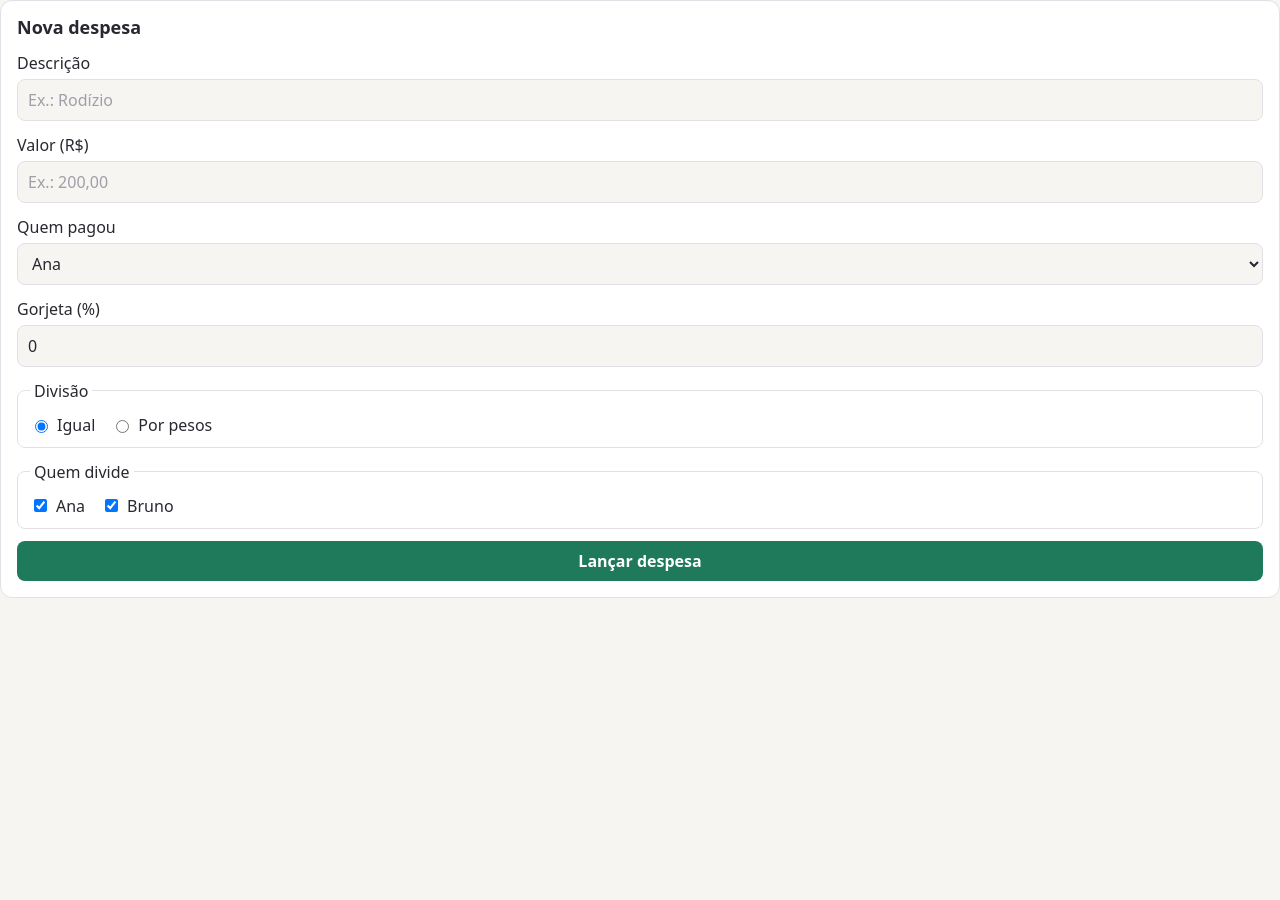
Test: DespesaForm › deve recusar com mensagem quando um peso não é positivo
The image size is (1280, 900).
Type "90,00" into the field labelled "Valor (R$)". click: point(640, 182)
box: x1=17 y1=161 x2=1263 y2=203
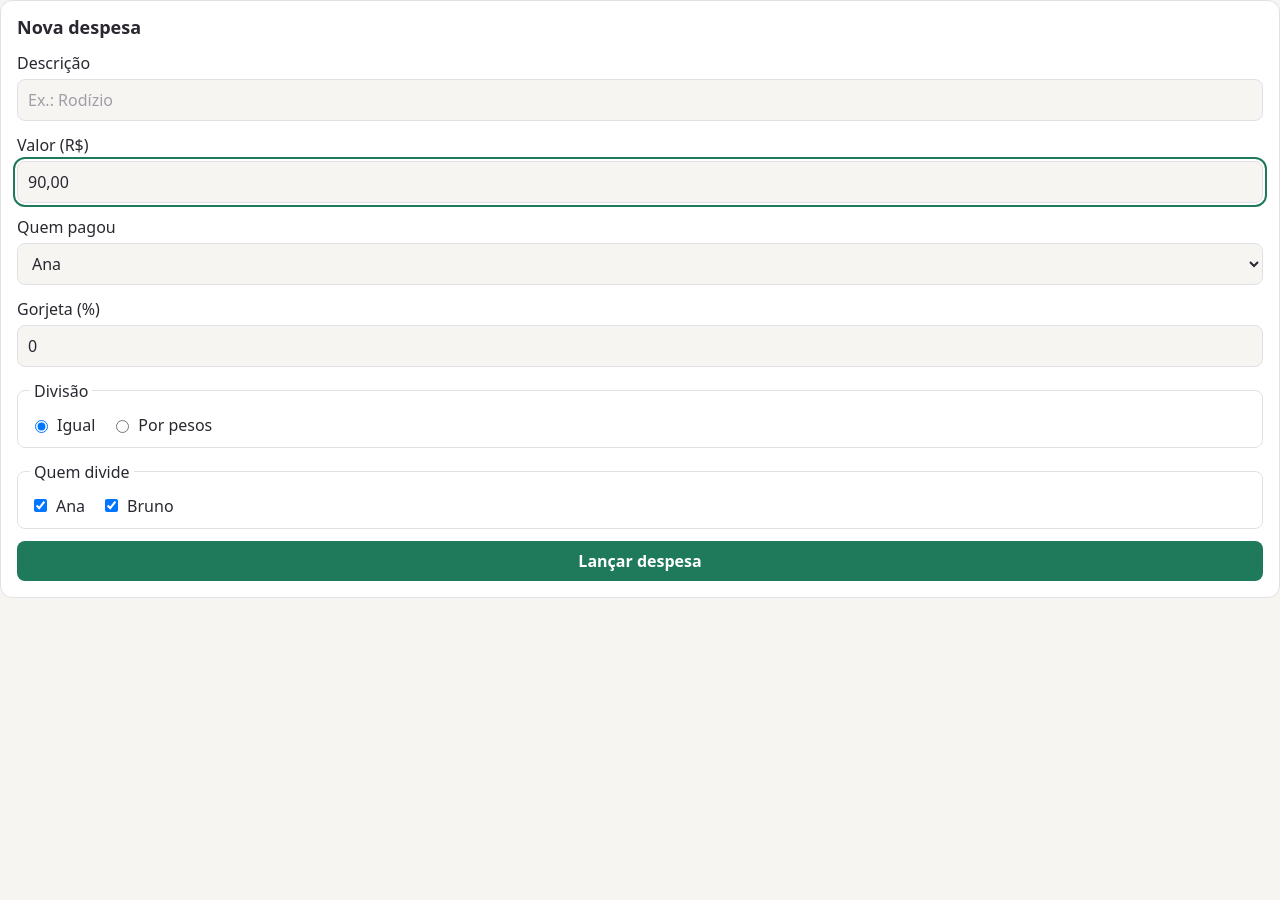
Click the radio button labelled "Por pesos". click: point(123, 426)
box: x1=116 y1=420 x2=129 y2=433
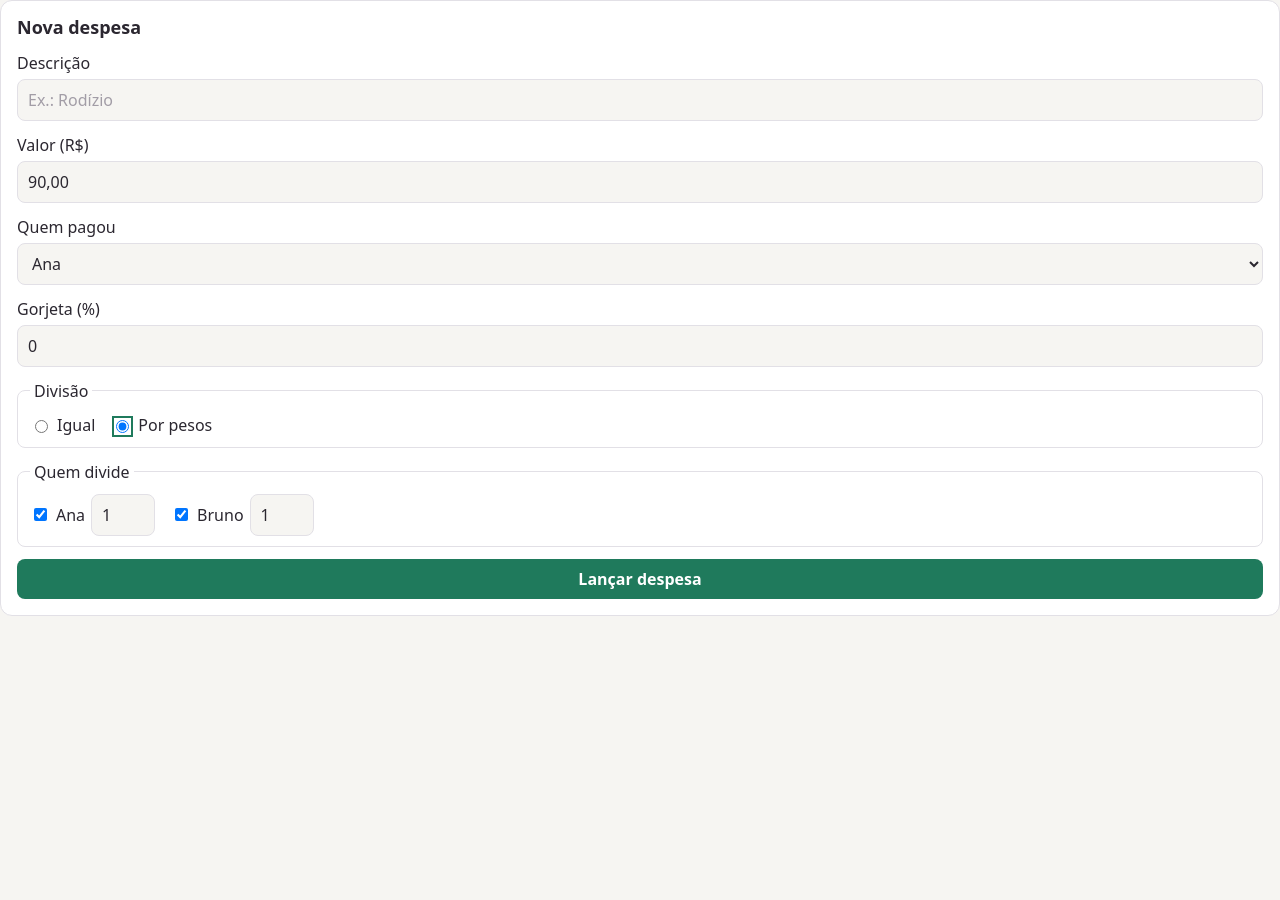
Replace the text in the number field named "Peso de Ana" with "0". click: point(123, 515)
box: x1=91 y1=494 x2=155 y2=536
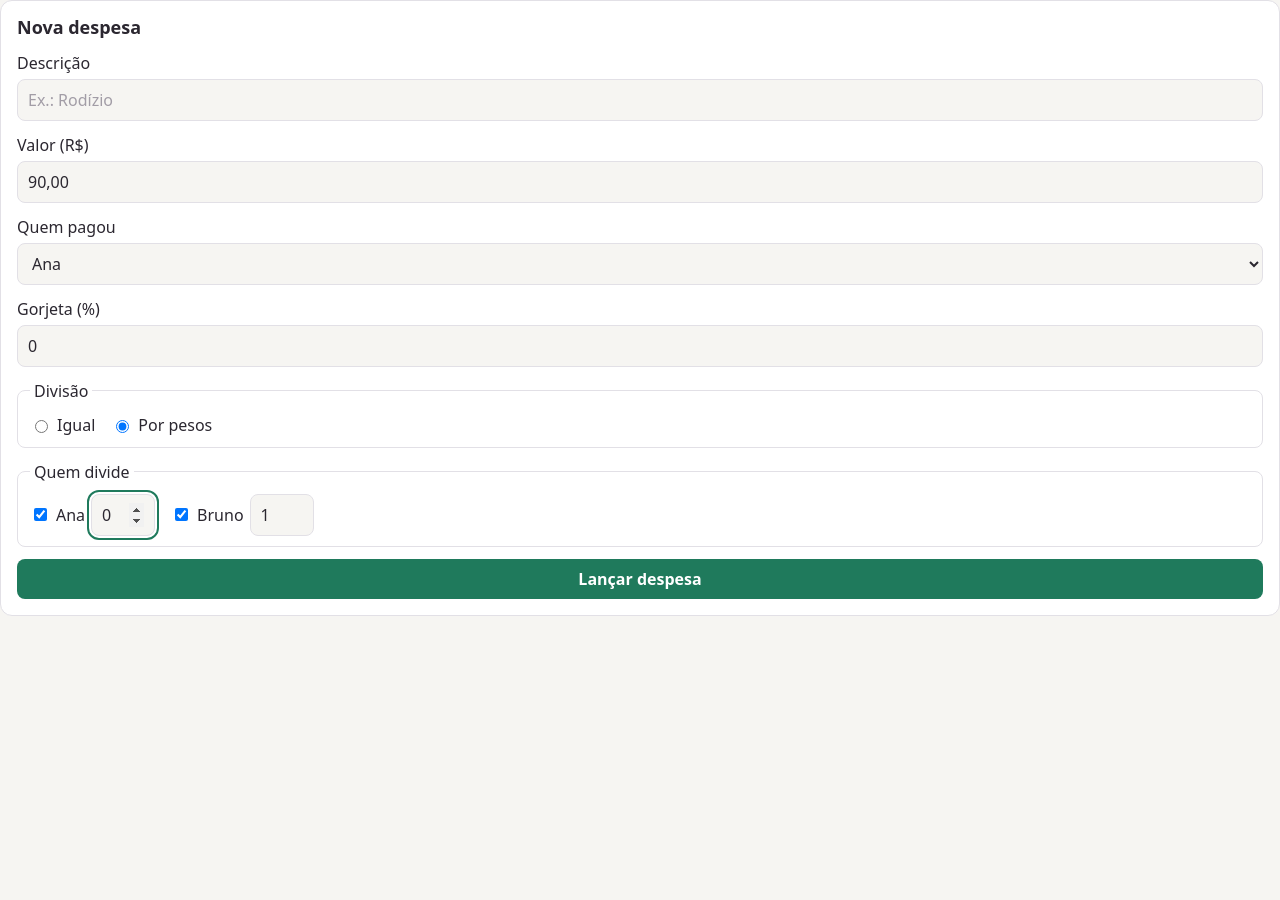
Click the button "Lançar despesa". click: point(640, 579)
box: x1=17 y1=559 x2=1263 y2=599
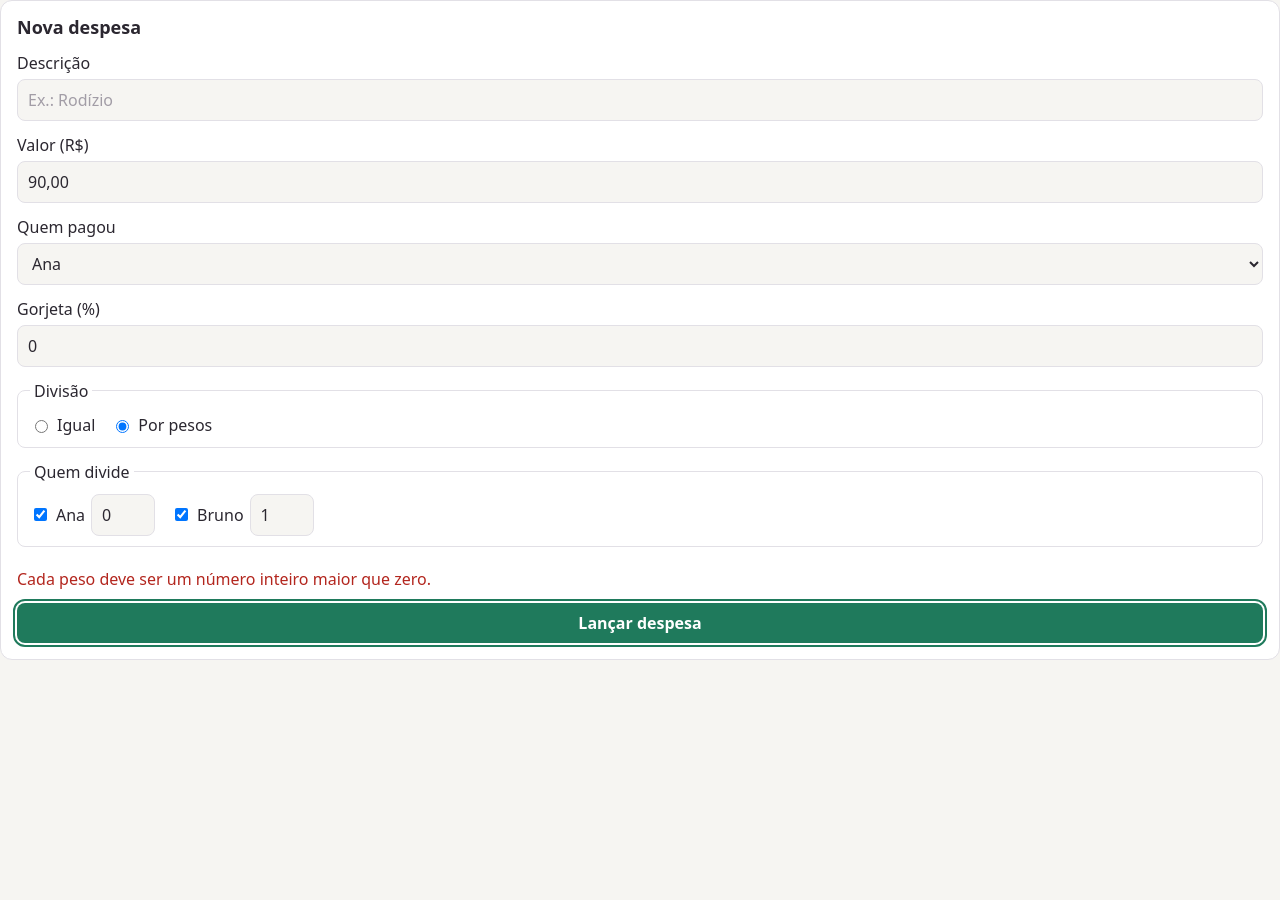
Now the message reads "Cada peso deve ser um número inteiro maior que zero.", box x1=17 y1=568 x2=431 y2=590
